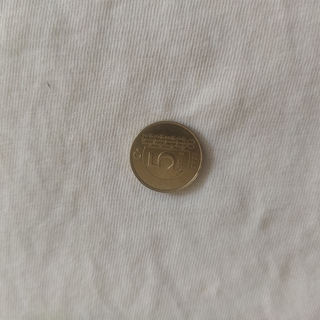5KURUS: (128, 119, 204, 195)
